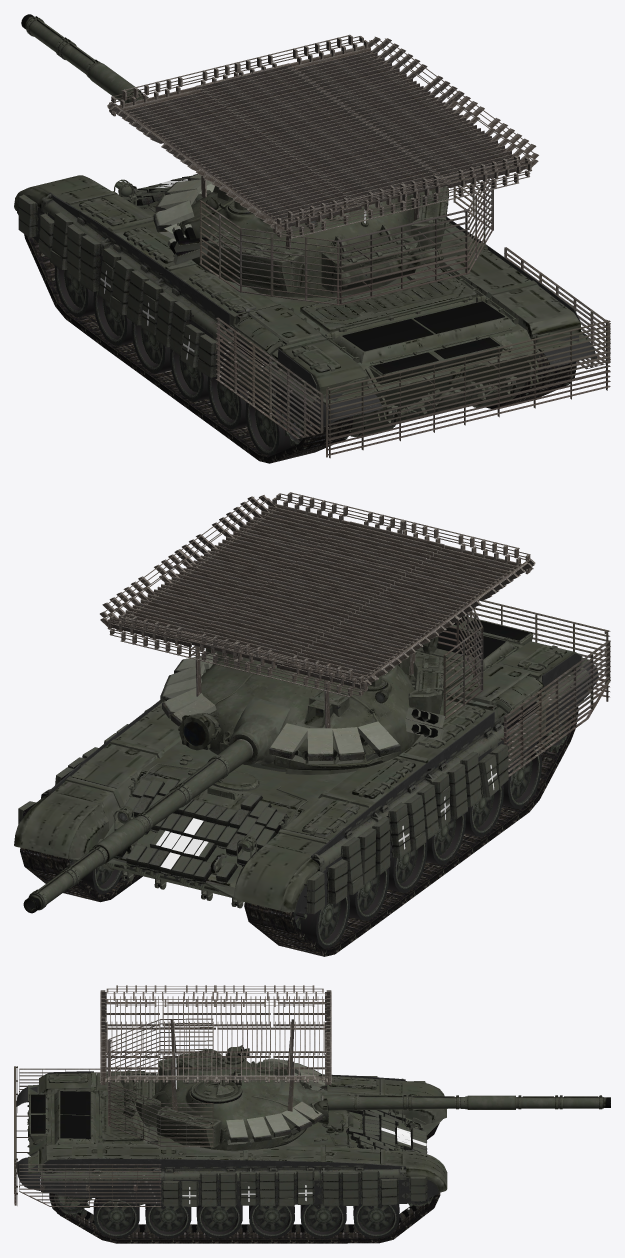
3 views of the same model, one above another, from view 1: azimuth 30°, elevation 25°; view 2: azimuth 150°, elevation 25°; view 3: azimuth 270°, elevation 25° (orthographic). The views are drawn at different scales.
Parts seen in each view (by area): view 1: Object_15, Object_14, Object_4, Object_16, Object_10, Object_12, Object_18, Object_17, Object_6, Object_5; view 2: Object_15, Object_14, Object_4, Object_10, Object_12, Object_5, Object_6, Object_16, Object_17, Object_18, Object_13, Object_2 (+1 smaller); view 3: Object_4, Object_14, Object_15, Object_10, Object_17, Object_5, Object_12, Object_18, Object_16, Object_6, Object_13.
Boxes of the visible parts, bbox=[...] form: Object_15: bbox=[107, 34, 538, 305]; Object_14: bbox=[33, 175, 589, 436]; Object_4: bbox=[17, 174, 597, 426]; Object_16: bbox=[215, 247, 610, 458]; Object_10: bbox=[177, 186, 448, 297]; Object_12: bbox=[24, 234, 576, 463]; Object_18: bbox=[170, 349, 300, 455]; Object_17: bbox=[54, 265, 573, 449]; Object_6: bbox=[153, 174, 414, 264]; Object_5: bbox=[21, 14, 148, 103]; Object_15: bbox=[100, 492, 535, 728]; Object_14: bbox=[20, 616, 590, 910]; Object_4: bbox=[18, 653, 598, 914]; Object_10: bbox=[178, 636, 443, 770]; Object_12: bbox=[20, 707, 578, 956]; Object_5: bbox=[23, 697, 289, 913]; Object_6: bbox=[160, 652, 445, 764]; Object_16: bbox=[391, 584, 610, 776]; Object_17: bbox=[69, 715, 572, 948]; Object_18: bbox=[426, 744, 541, 864]; Object_13: bbox=[14, 792, 319, 912]; Object_2: bbox=[156, 818, 208, 869]; Object_4: bbox=[16, 1071, 439, 1206]; Object_14: bbox=[27, 1071, 447, 1186]; Object_15: bbox=[100, 985, 331, 1146]; Object_10: bbox=[120, 1046, 328, 1149]; Object_17: bbox=[54, 1194, 433, 1238]; Object_5: bbox=[278, 1080, 610, 1110]; Object_12: bbox=[49, 1123, 440, 1243]; Object_18: bbox=[93, 1198, 242, 1238]; Object_16: bbox=[14, 1066, 161, 1206]; Object_6: bbox=[226, 1045, 326, 1144]; Object_13: bbox=[406, 1082, 447, 1192].
Bounding box in the file's own units: 4.05 × 3.15 × 10.02.
Materials: 14 (10 with a texture image).
